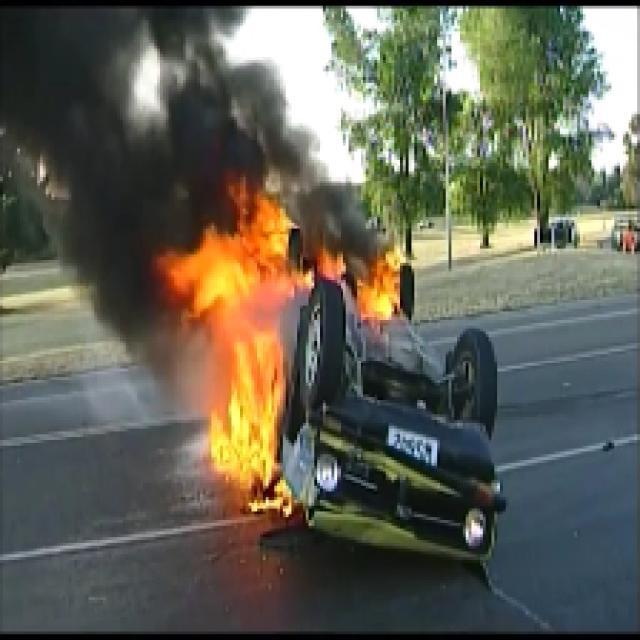Fire: (157, 203, 289, 508), (317, 254, 403, 317)
Smoke: (2, 2, 212, 238)
